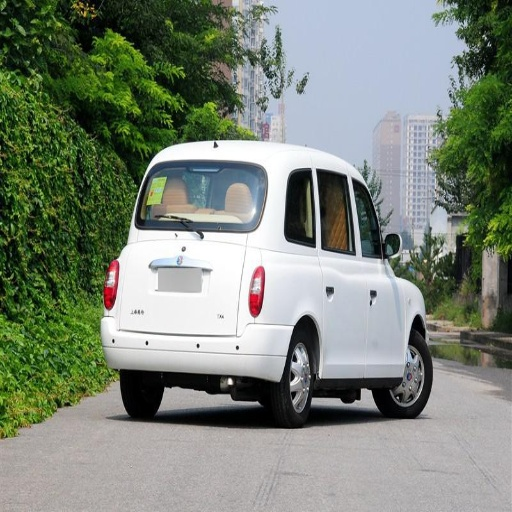back_bumper: (104, 309, 290, 379)
back_right_door: (309, 168, 366, 372)
trunk: (115, 220, 275, 340)
